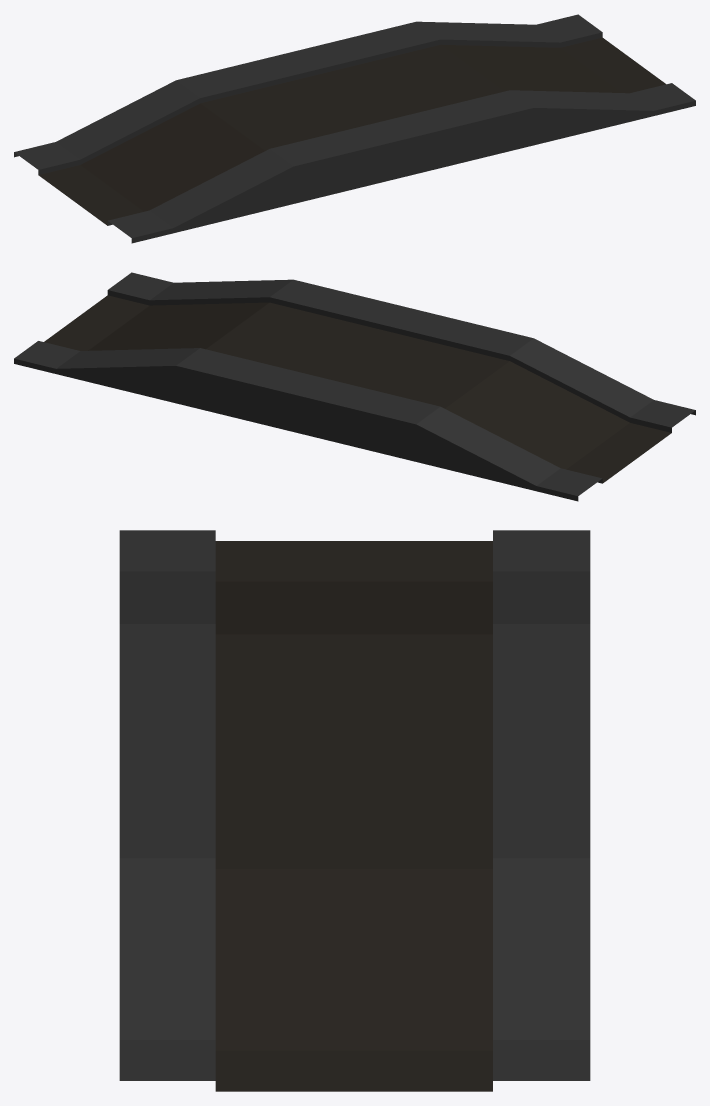
Rendered from straatBrugTOP.fbx.
3 views of the same model, one above another, from view 1: azimuth 30°, elevation 25°; view 2: azimuth 150°, elevation 25°; view 3: azimuth 270°, elevation 25° (orthographic). The views are drawn at different scales.
Parts seen in each view (by area): view 1: Cube.001; view 2: Cube.001; view 3: Cube.001.
Part boxes in pixels (x1,y1,x2,y2): Cube.001: (14, 14, 695, 243); Cube.001: (14, 272, 695, 501); Cube.001: (119, 530, 590, 1091).
Size of the model in its own units: 940 by 59.82 by 340.
